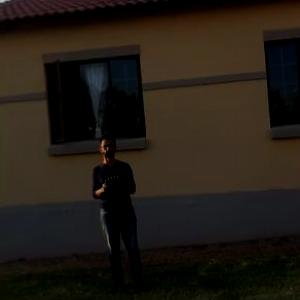follow: (91, 129, 149, 297)
